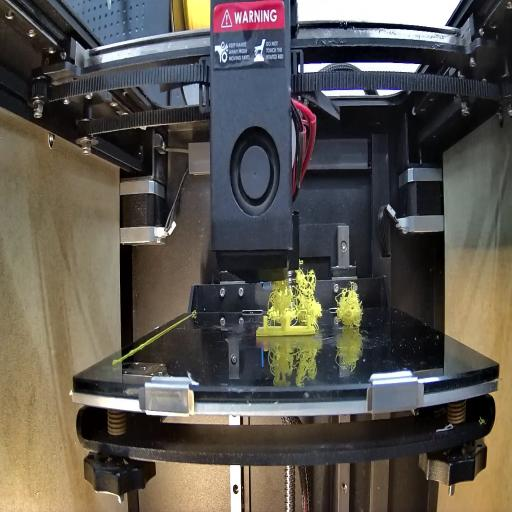spaghetti: (273, 263, 319, 324), (334, 289, 366, 326)
